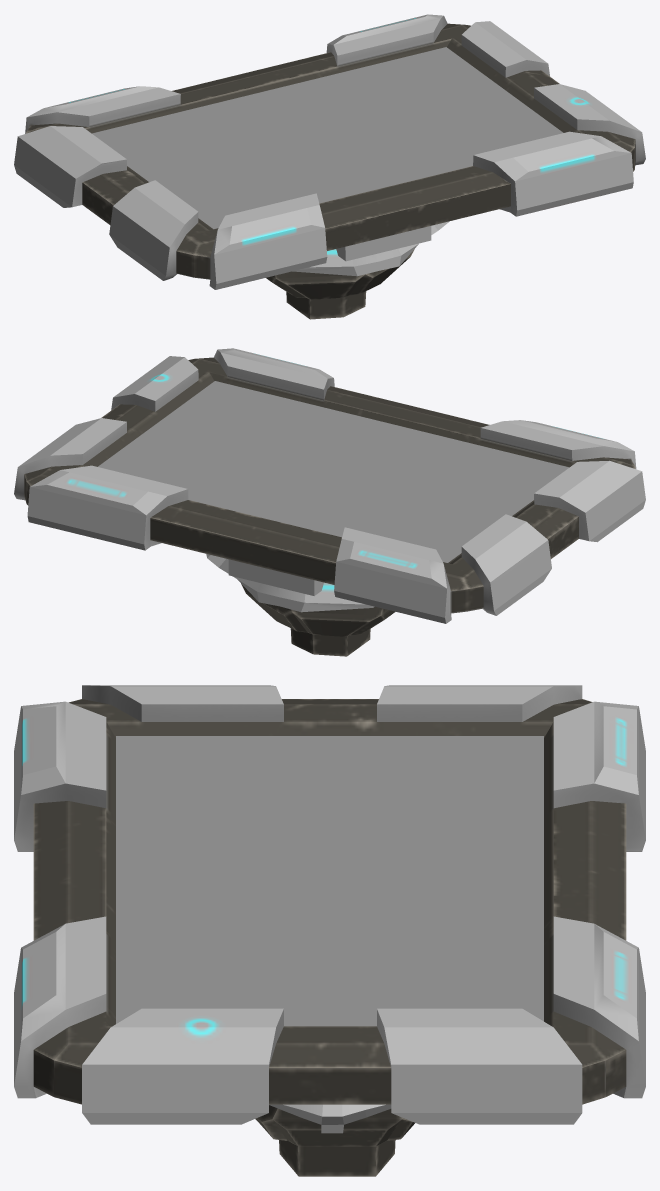
The model's file is Robot_Panel.FBX.
3 views of the same model, one above another, from view 1: azimuth 30°, elevation 25°; view 2: azimuth 150°, elevation 25°; view 3: azimuth 270°, elevation 25° (orthographic). The views are drawn at different scales.
Parts seen in each view (by area): view 1: Robot_Panel, Robot_Panel_Screen; view 2: Robot_Panel, Robot_Panel_Screen; view 3: Robot_Panel, Robot_Panel_Screen.
Boxes of the visible parts, x1,y1,x2,y2 form: Robot_Panel: (14,14,645,319); Robot_Panel_Screen: (92,47,563,229); Robot_Panel: (14,348,645,656); Robot_Panel_Screen: (98,381,569,562); Robot_Panel: (14,685,645,1176); Robot_Panel_Screen: (116,736,543,1026).
Bounding box in the file's own units: 409 × 151 × 283.
